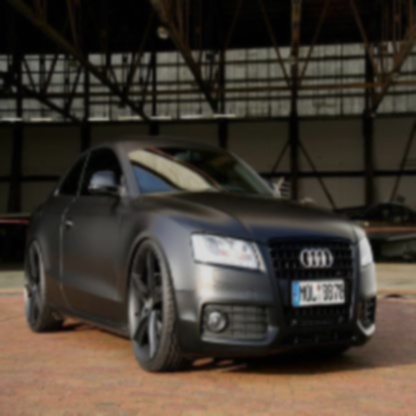Vehicle: (23, 136, 381, 376)
